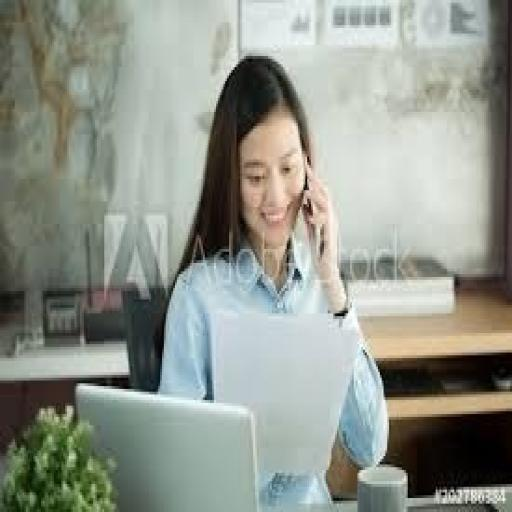texting: (156, 50, 391, 498)
